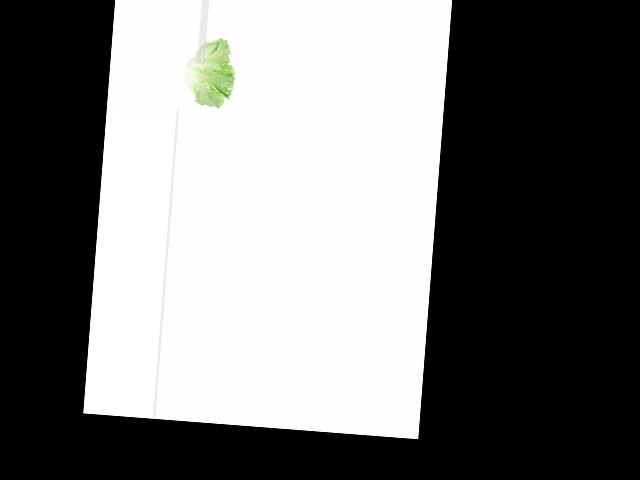lettuce: (181, 38, 236, 109)
